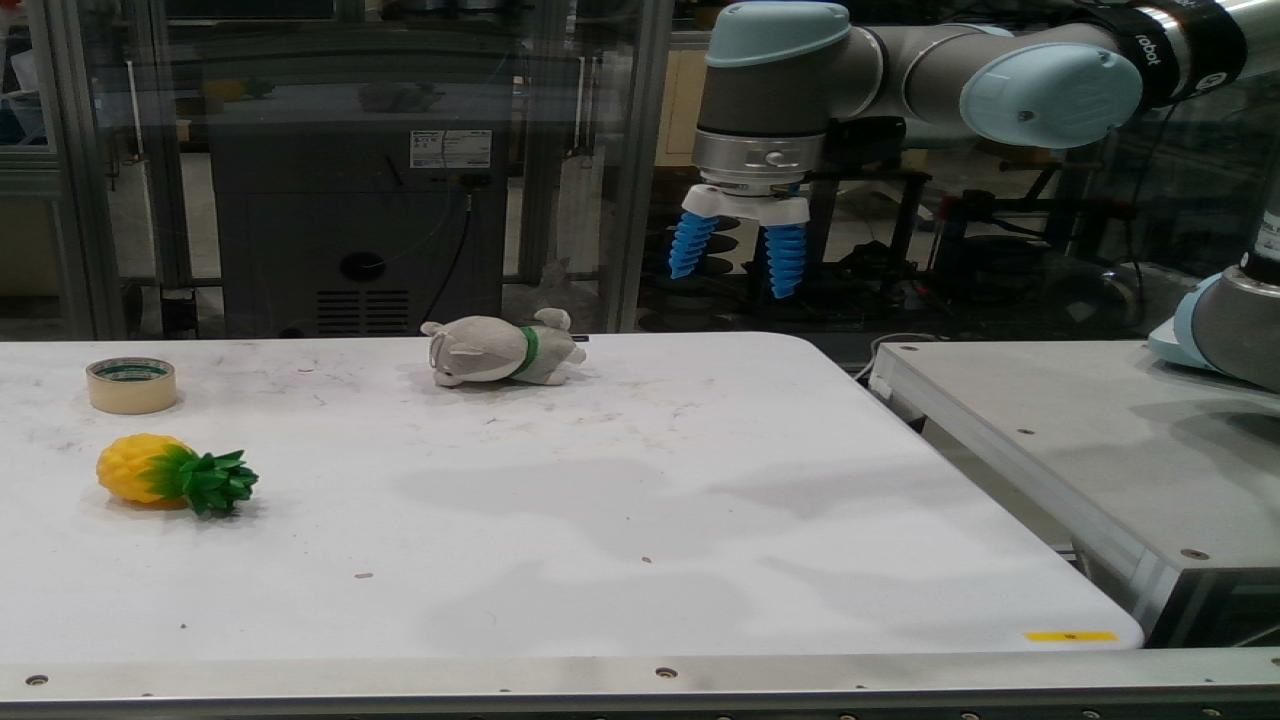UR5: (684, 1, 1278, 224), (1176, 210, 1278, 390)
gripper_left: (670, 214, 712, 278)
gripper_right: (768, 225, 804, 296)
target: (98, 435, 254, 514), (424, 309, 582, 386), (88, 358, 172, 413)
